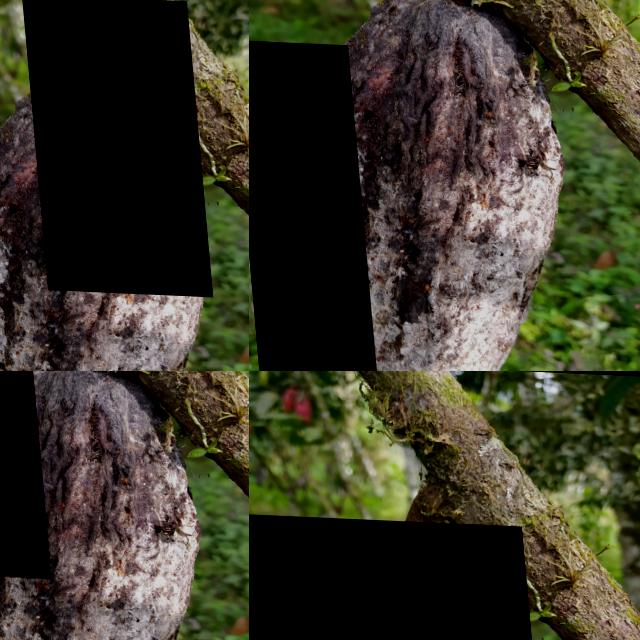Fitoftora: (20, 0, 206, 292), (249, 38, 366, 371), (249, 511, 549, 640)
Monilia: (586, 183, 640, 336)
Sana: (413, 93, 574, 368)
